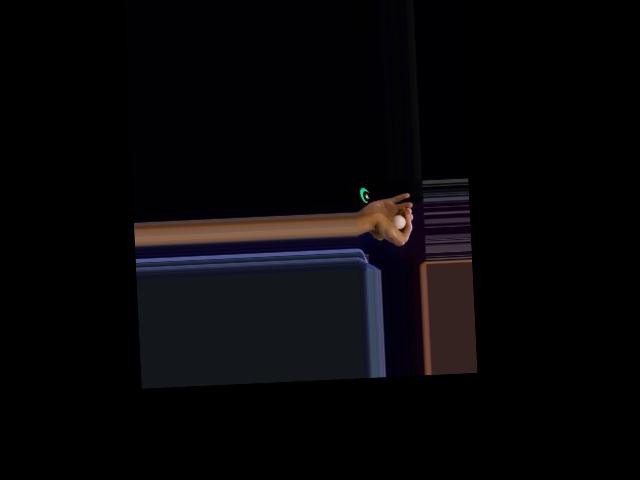egg: (394, 214, 406, 230)
